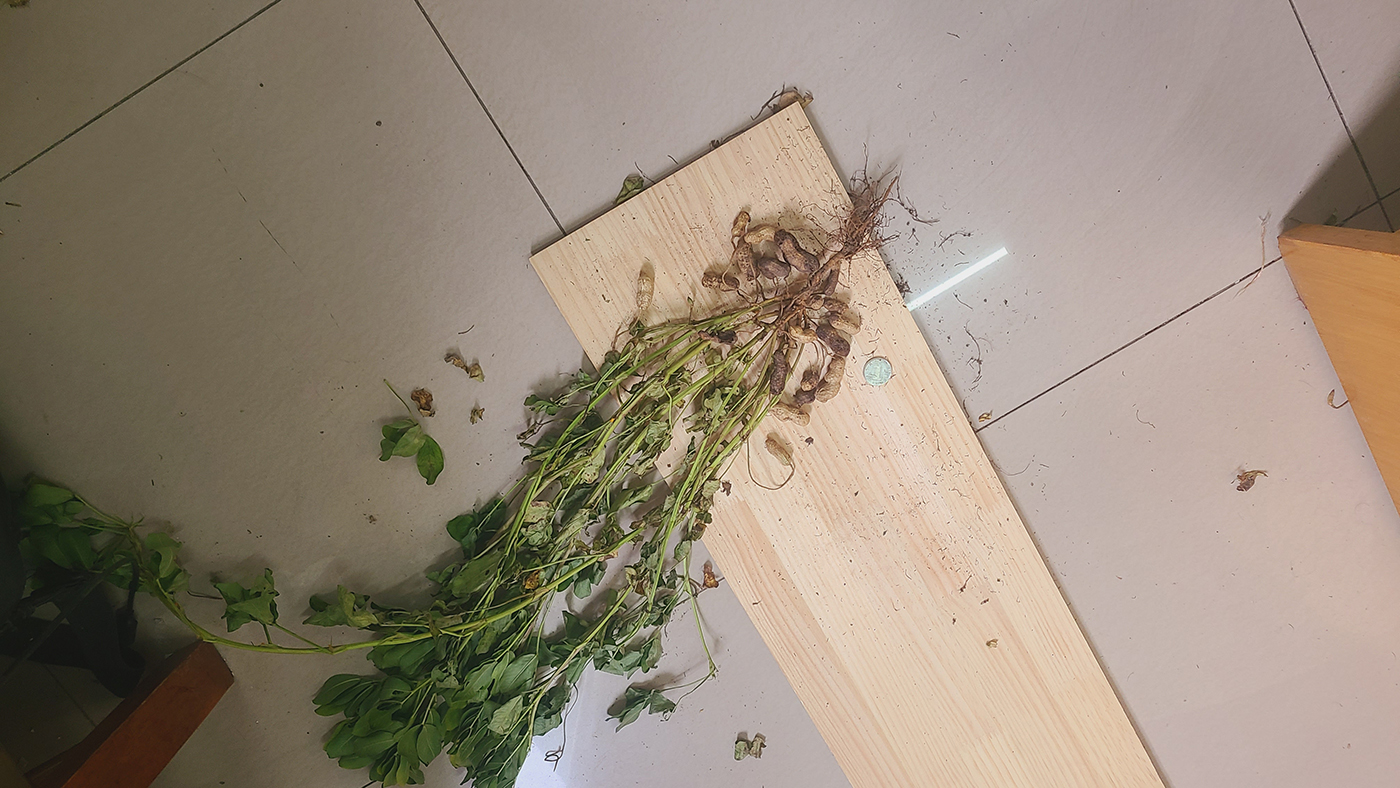h: (814, 356, 846, 403), (773, 402, 810, 426), (826, 311, 860, 335), (765, 438, 793, 467), (736, 246, 760, 279), (636, 270, 654, 311), (743, 223, 775, 243), (730, 211, 751, 238), (787, 325, 818, 343), (823, 296, 849, 312), (800, 371, 819, 391), (809, 294, 824, 309)
l: (774, 229, 820, 271), (816, 324, 850, 356), (770, 349, 788, 395), (757, 256, 791, 279), (701, 272, 740, 292), (698, 330, 739, 345), (795, 390, 816, 406)
